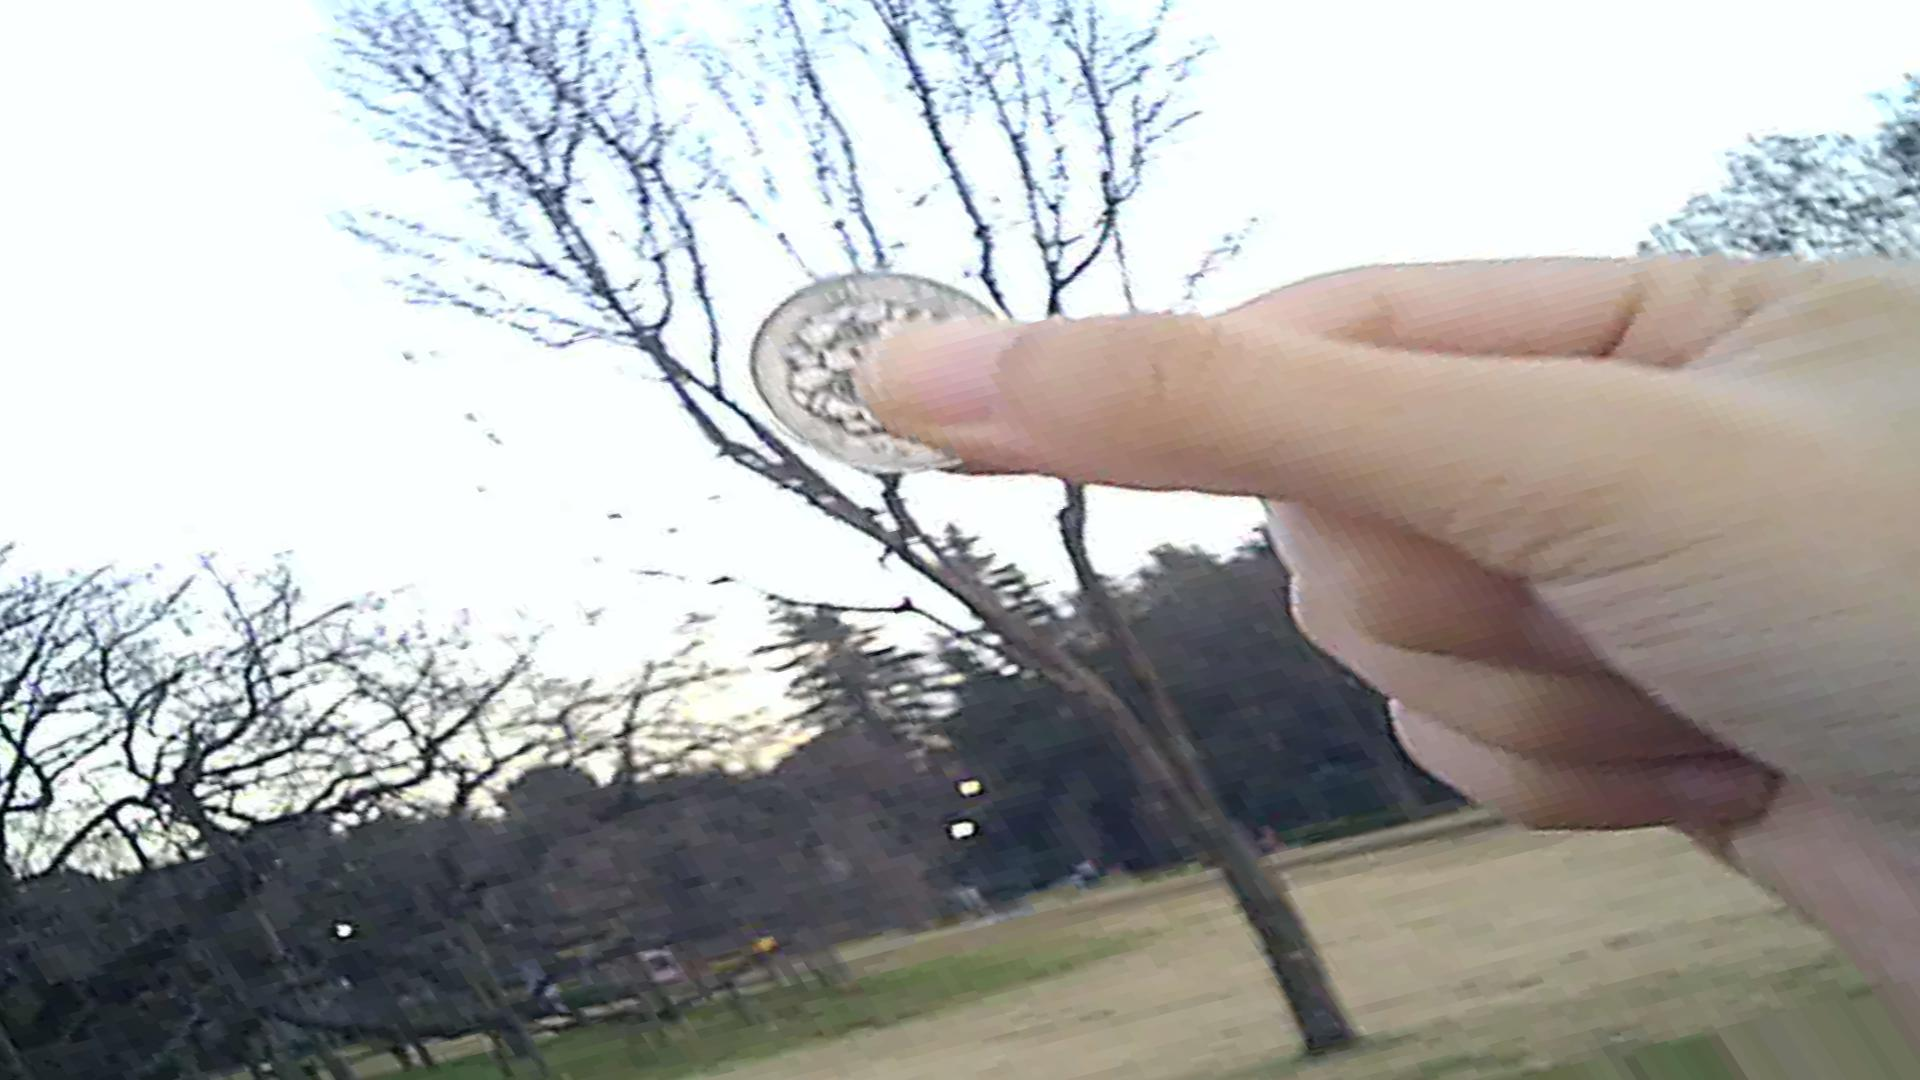100 Yen: (736, 270, 996, 462)
